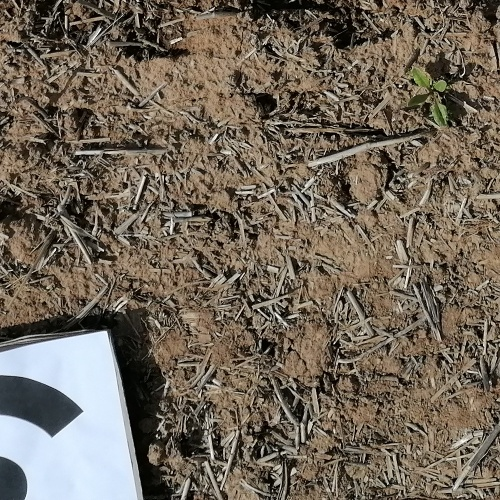beet: (404, 64, 449, 129)
